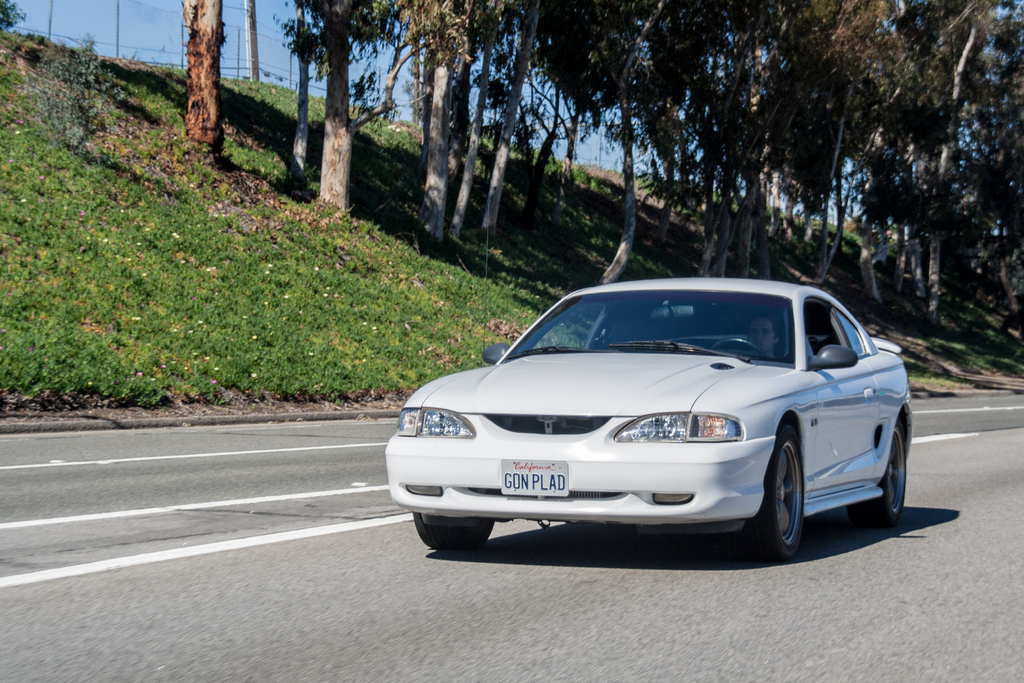Car: (380, 279, 925, 560)
